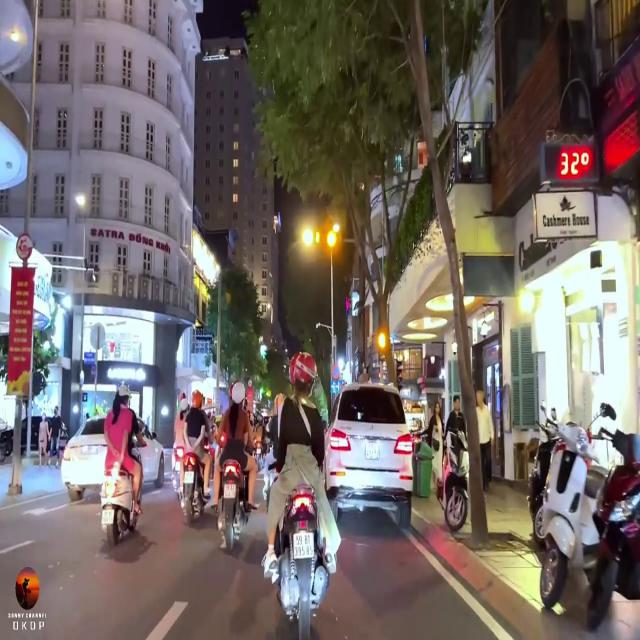bien_trang: (292, 532, 313, 559)
